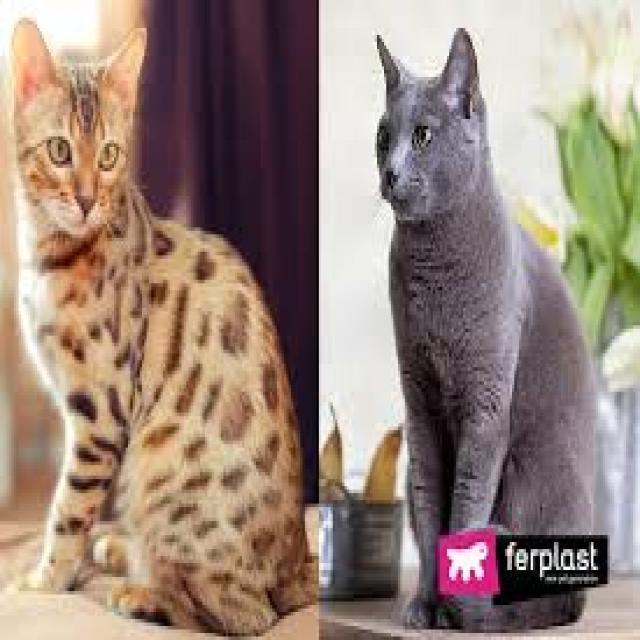Cat: (2, 14, 316, 640), (371, 30, 595, 640)
